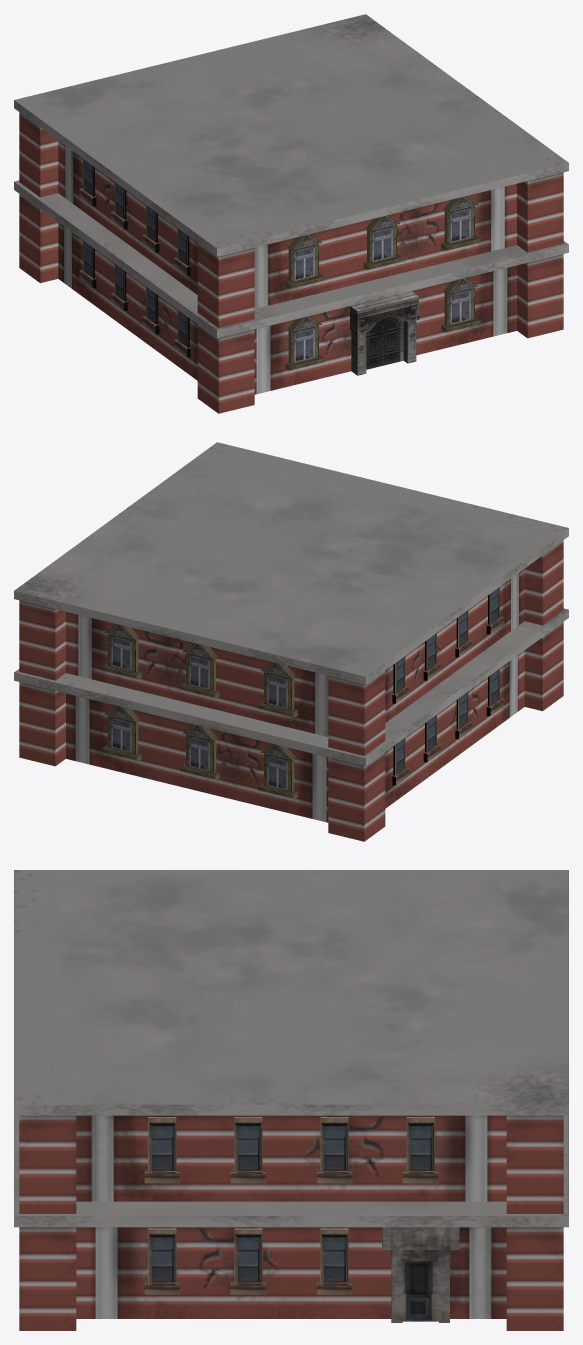
The model's file is Building03_1.FBX.
3 views of the same model, one above another, from view 1: azimuth 30°, elevation 25°; view 2: azimuth 150°, elevation 25°; view 3: azimuth 270°, elevation 25° (orthographic). The views are drawn at different scales.
Visible parts, largest first — view 1: Building1; view 2: Building1; view 3: Building1.
Boxes of the visible parts, box(x1,y1,x2,y2) form: Building1: box(14, 14, 568, 413); Building1: box(14, 442, 568, 841); Building1: box(14, 870, 568, 1330).
Bounding box in the file's own units: 9.02 × 4.1 × 9.02.
